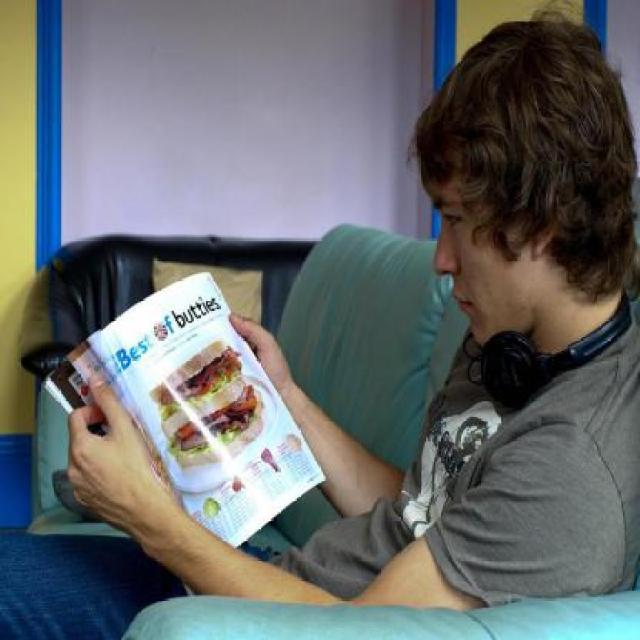earphone: (482, 292, 635, 406)
